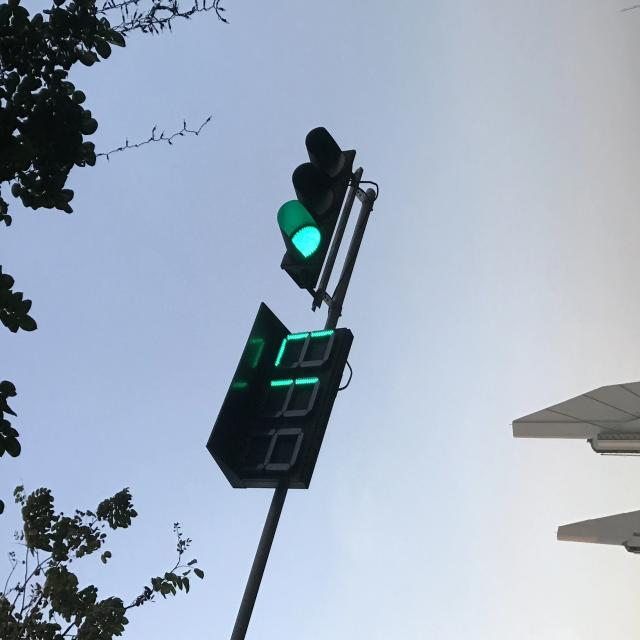Green_light: (269, 111, 357, 285)
